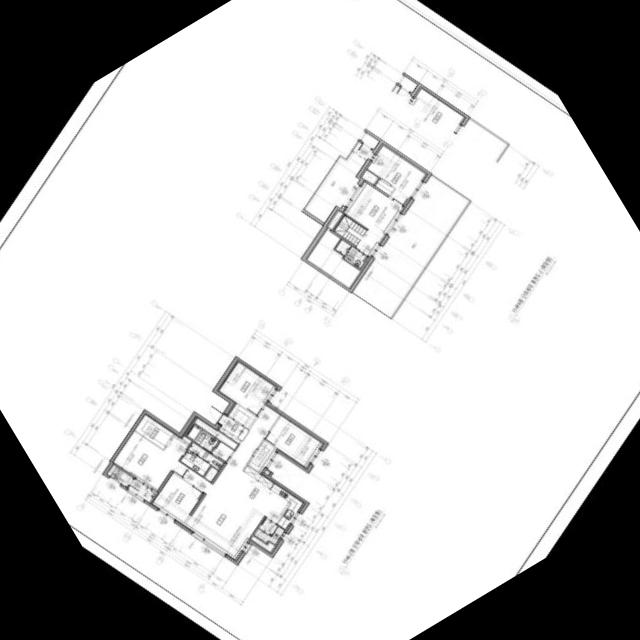background: (0, 0, 640, 640)
space_balconi: (254, 517, 285, 544), (128, 479, 156, 502)
space_bedroom: (114, 431, 190, 491), (368, 144, 426, 205), (219, 360, 276, 415), (265, 414, 323, 467), (153, 473, 203, 523)
space_dressroom: (135, 414, 174, 448)
space_front: (219, 415, 249, 443)
space_kitchen: (230, 465, 303, 529)
space_living_room: (183, 404, 281, 559), (345, 181, 403, 256)
space_other: (353, 175, 468, 317), (306, 142, 373, 222), (307, 228, 362, 288), (195, 417, 238, 449), (334, 215, 368, 246), (248, 440, 277, 472), (228, 403, 256, 428), (213, 441, 234, 462), (251, 535, 275, 552), (375, 178, 395, 195), (327, 209, 344, 229), (362, 132, 379, 149), (361, 169, 379, 184), (182, 435, 192, 443), (265, 470, 270, 474)
space_outdoor_room: (107, 464, 133, 487)
space_toilet: (181, 442, 224, 481), (187, 424, 219, 453), (336, 239, 368, 268)
